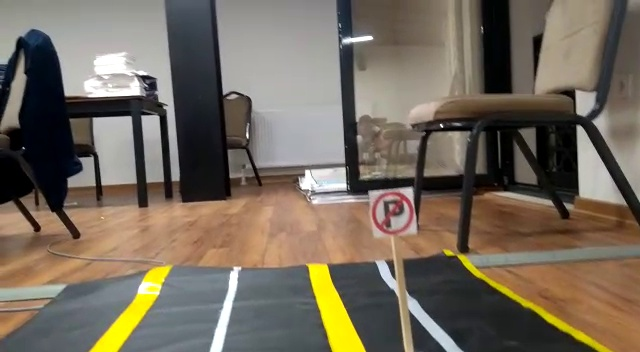park_yapilmaz: (368, 186, 416, 234)
